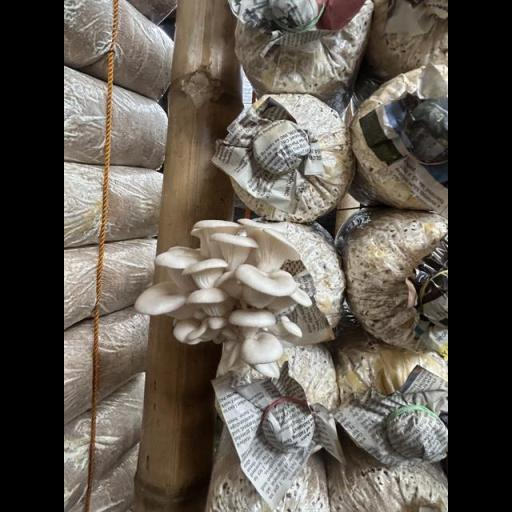White Oyster Mushroom: (132, 213, 317, 370)
